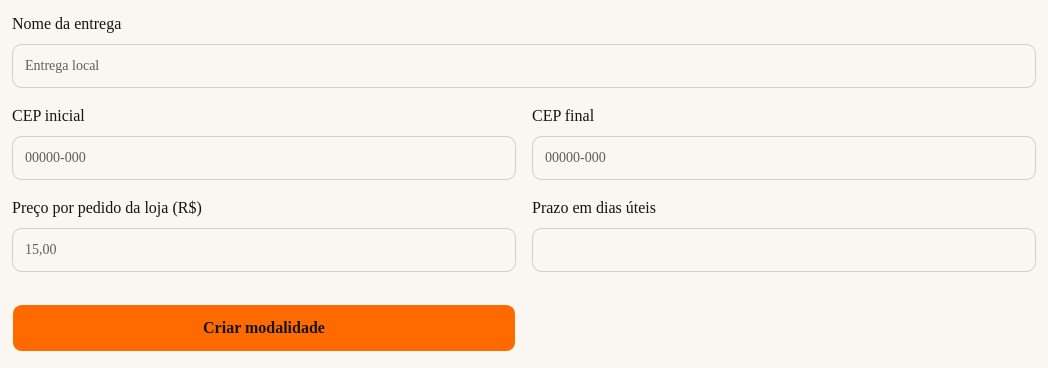
Test: formats both CEP fields while typing
Type "01000000" into the field labelled "CEP inicial" at (264,158), box [12,136,516,180]
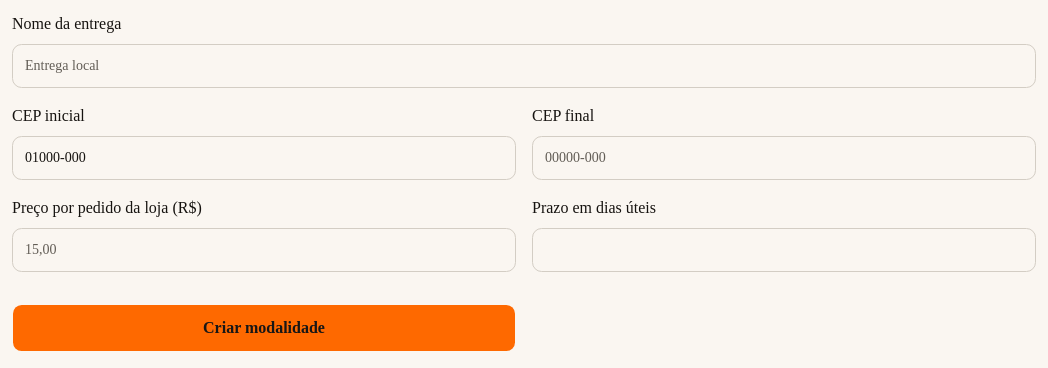
Type "05999999" into the field labelled "CEP final" at (784,158), box [532,136,1036,180]
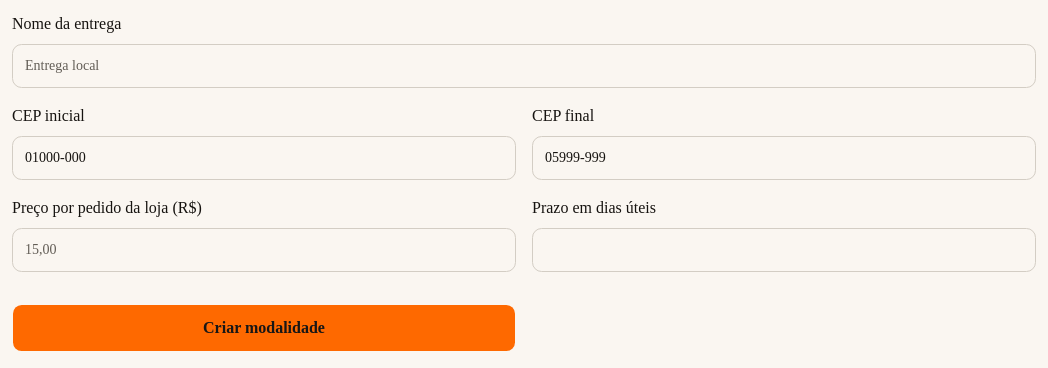
Check: the field labelled "CEP inicial" holds "01000-000", box [12,136,516,180]
Check: the field labelled "CEP final" holds "05999-999", box [532,136,1036,180]
